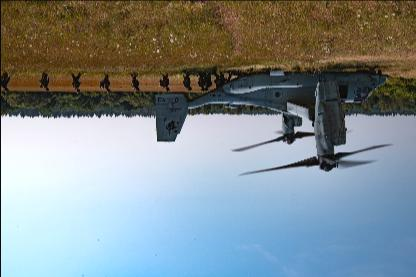Tornado: (152, 68, 394, 176)
